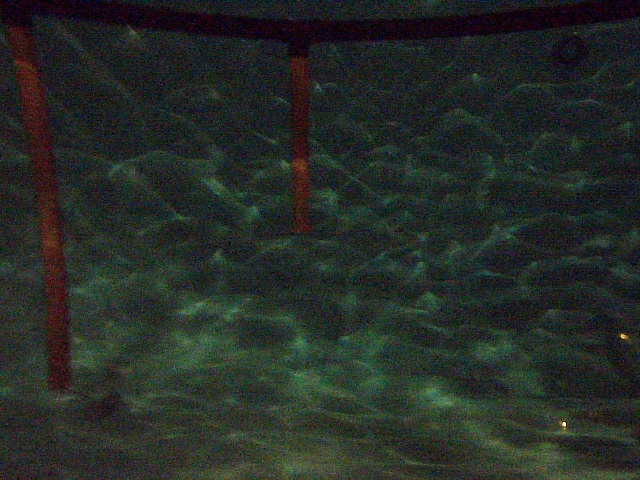Gate: (1, 14, 75, 397), (286, 50, 314, 231)
